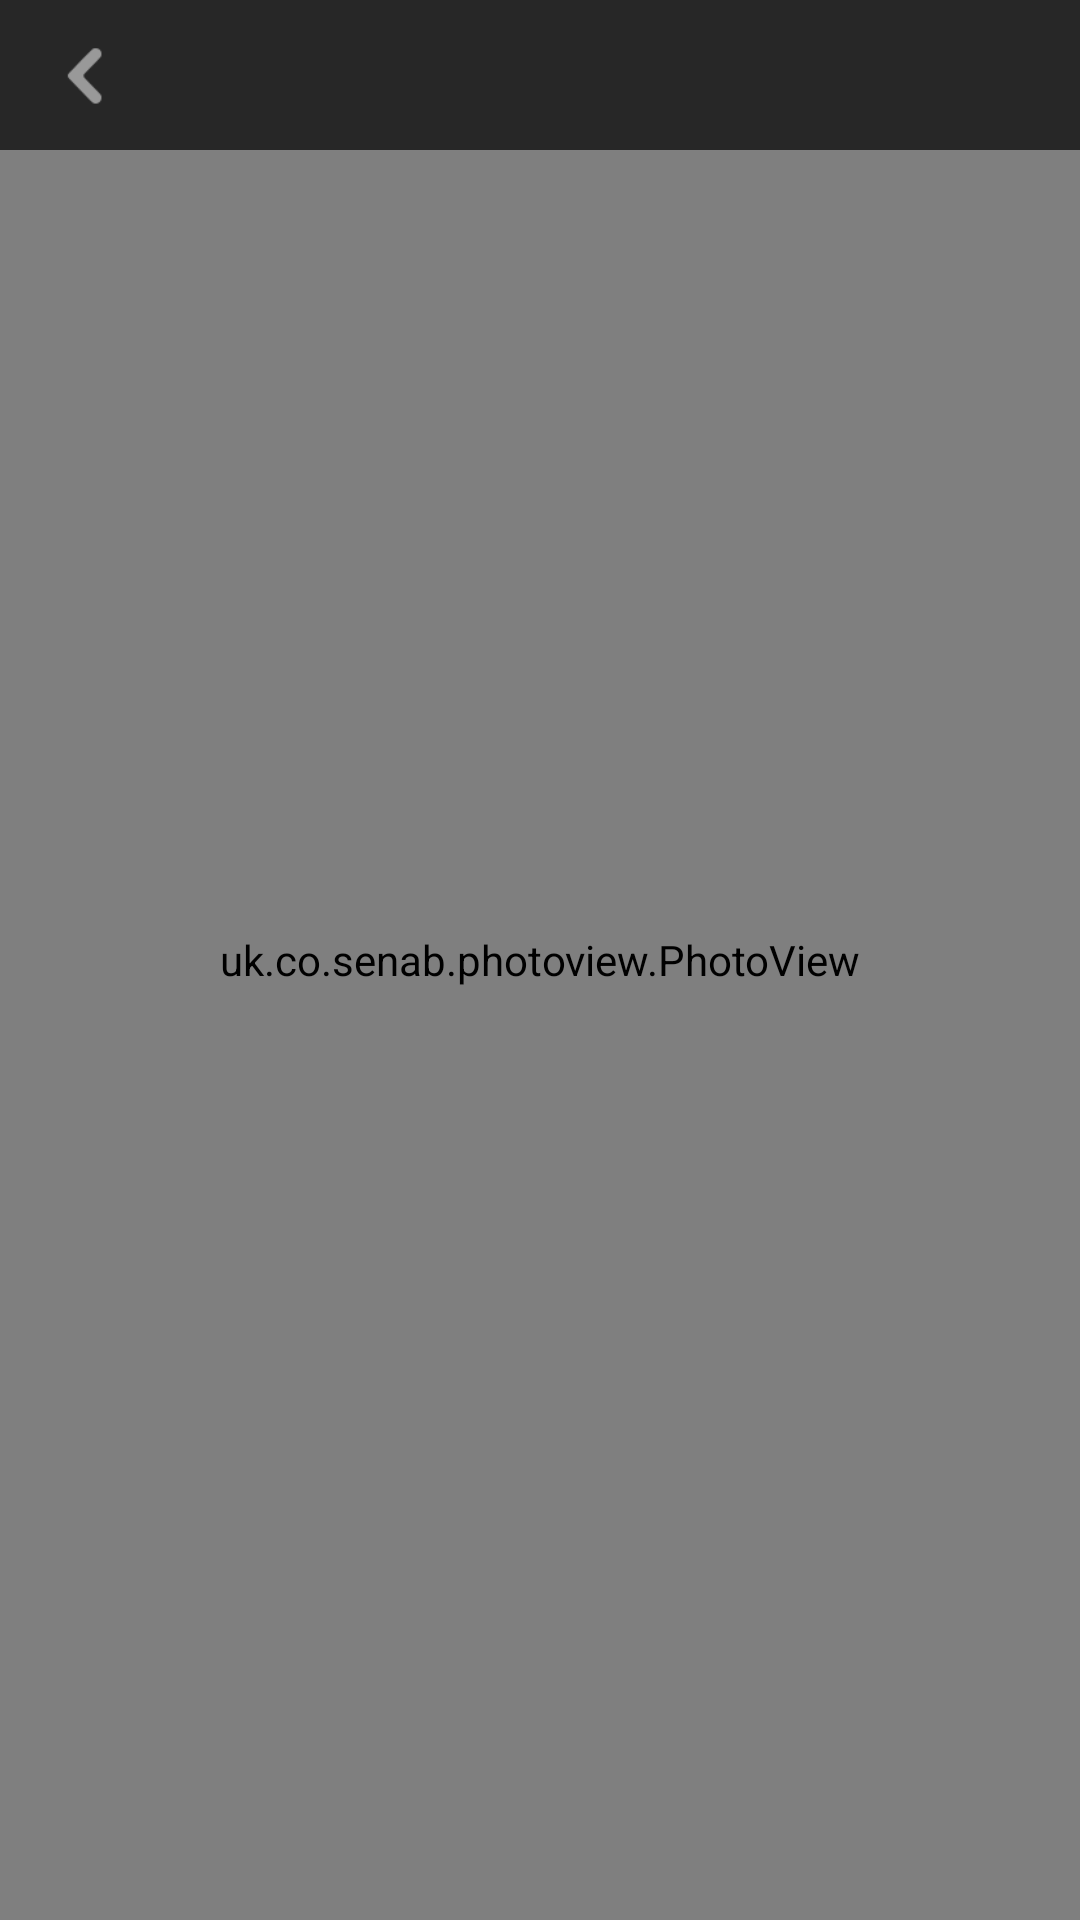

Point at icon controls on the screen. Image size 1080px×1920px, points as (x,y).
back: (85,76)
